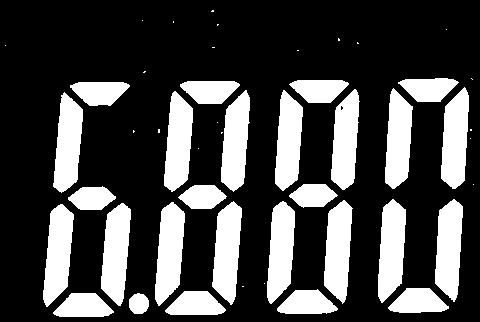0: (375, 77, 472, 314)
6: (39, 79, 132, 315)
8: (153, 77, 251, 315), (265, 77, 361, 315)
dot: (126, 292, 152, 315)
